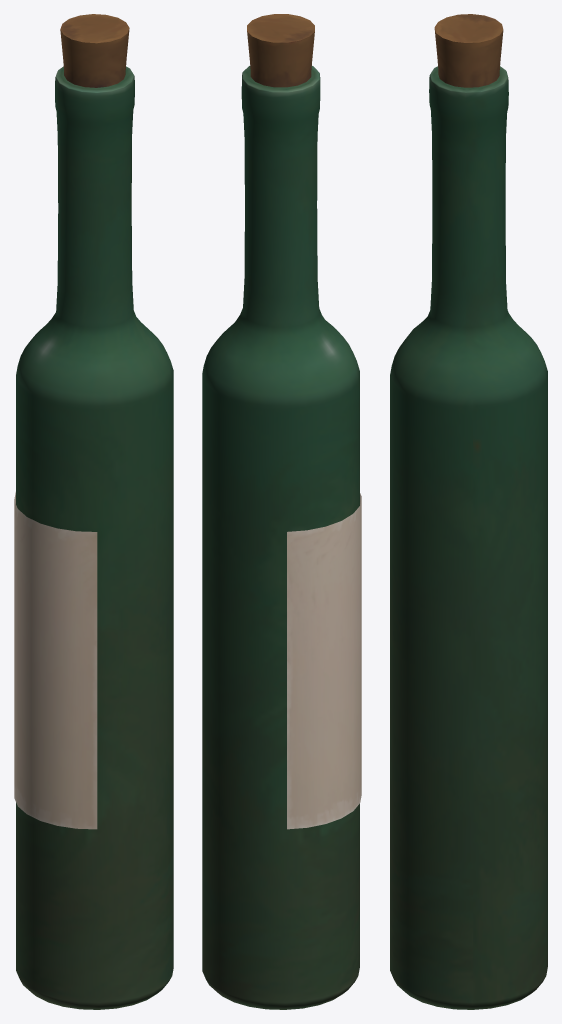
Rendered from SM_Bottles_02.fbx.
The picture shows the model from 3 angles, left to right: view 1: azimuth 30°, elevation 25°; view 2: azimuth 150°, elevation 25°; view 3: azimuth 270°, elevation 25°; orthographic projection.
Visible parts, largest first — view 1: SM_Bottles_02_LOD0; view 2: SM_Bottles_02_LOD0; view 3: SM_Bottles_02_LOD0.
Boxes of the visible parts, x1=… form: SM_Bottles_02_LOD0: x1=14, y1=14, x2=173, y2=1009; SM_Bottles_02_LOD0: x1=202, y1=14, x2=361, y2=1009; SM_Bottles_02_LOD0: x1=390, y1=14, x2=547, y2=1009.
Size of the model in its own units: 5.92 by 5.84 by 38.87.
Materials: 2 (2 with a texture image).
